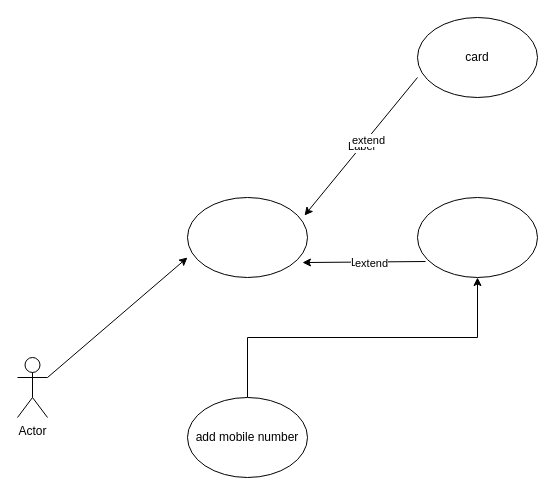
Some shapes in this 555 by 495 pixel diagram are drawn without their labels. Each missing label, with the box of its shape:
mobile: (416, 196, 538, 278)
payment: (186, 196, 308, 278)
